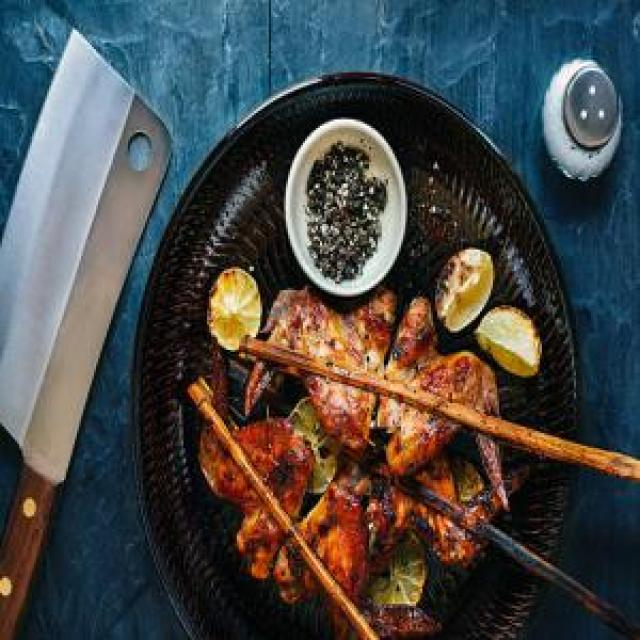knife: (0, 21, 177, 639)
